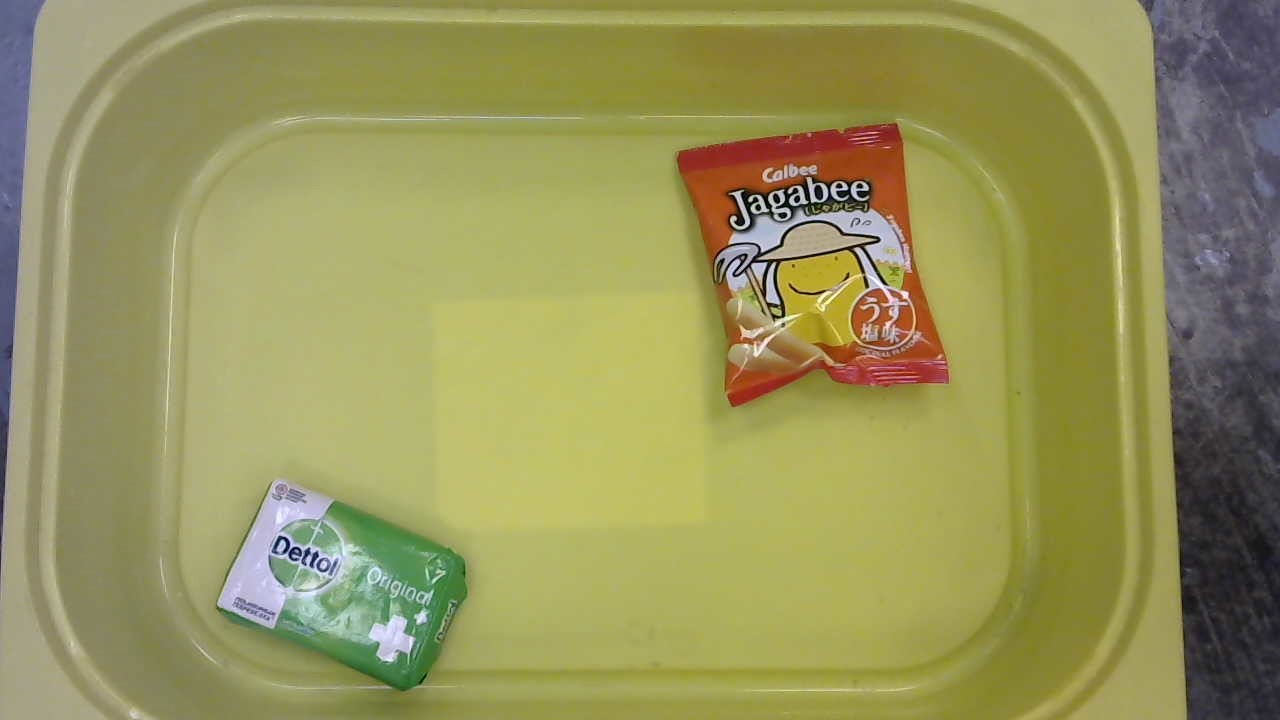Dettol: (209, 474, 474, 697)
JagabeeFarmer: (675, 121, 956, 415)
